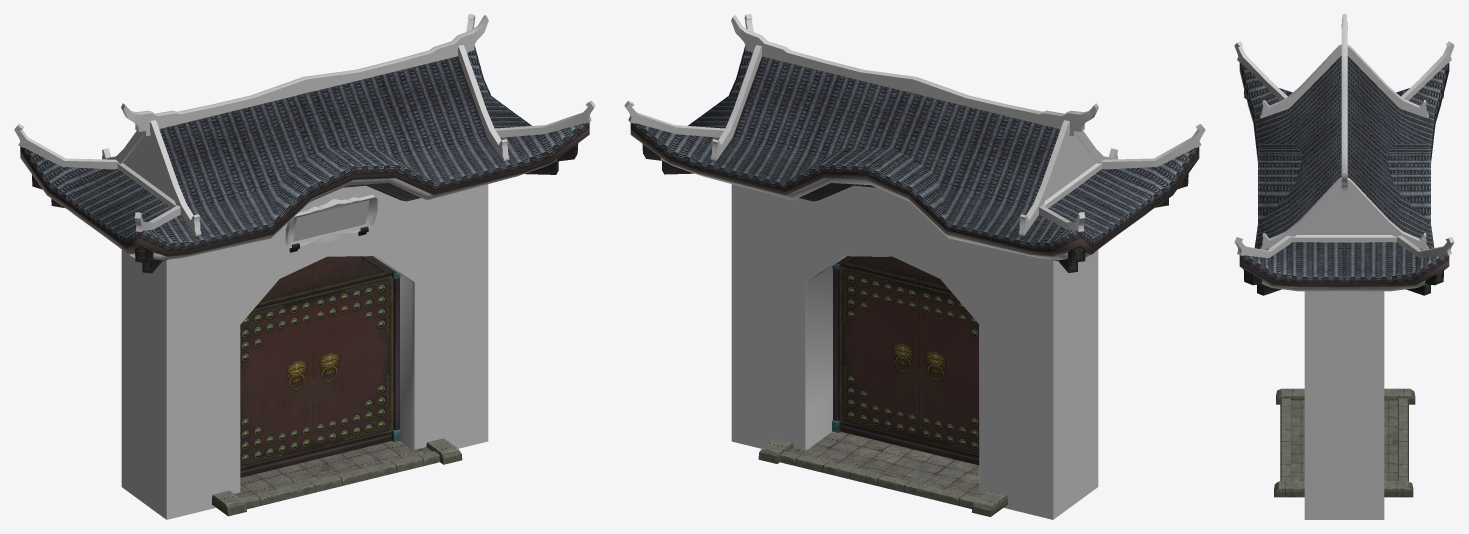
The model's file is JiaYeSi_WeiQiang_1.FBX.
3 renders of one model, left to right at view 1: azimuth 30°, elevation 25°; view 2: azimuth 150°, elevation 25°; view 3: azimuth 270°, elevation 25°, orthographic. The views are drawn at different scales.
Visible parts, largest first — view 1: JiaYeSi_WeiQiang_1e, JiaYeSi_WeiQiang_1b, JiaYeSi_WeiQiang_1h, JiaYeSi_WeiQiang_1a, JiaYeSi_WeiQiang_1c, JiaYeSi_WeiQiang_1g, JiaYeSi_WeiQiang_1f, JiaYeSi_WeiQiang_1d; view 2: JiaYeSi_WeiQiang_1e, JiaYeSi_WeiQiang_1b, JiaYeSi_WeiQiang_1h, JiaYeSi_WeiQiang_1a, JiaYeSi_WeiQiang_1f, JiaYeSi_WeiQiang_1g, JiaYeSi_WeiQiang_1c, JiaYeSi_WeiQiang_1d; view 3: JiaYeSi_WeiQiang_1b, JiaYeSi_WeiQiang_1e, JiaYeSi_WeiQiang_1a, JiaYeSi_WeiQiang_1g, JiaYeSi_WeiQiang_1f, JiaYeSi_WeiQiang_1d, JiaYeSi_WeiQiang_1c.
Boxes of the visible parts, box(x1,y1,x2,y2) form: JiaYeSi_WeiQiang_1e: box(121, 184, 488, 519); JiaYeSi_WeiQiang_1b: box(20, 46, 589, 256); JiaYeSi_WeiQiang_1h: box(240, 256, 400, 477); JiaYeSi_WeiQiang_1a: box(14, 14, 595, 235); JiaYeSi_WeiQiang_1c: box(71, 159, 556, 260); JiaYeSi_WeiQiang_1g: box(212, 438, 462, 516); JiaYeSi_WeiQiang_1f: box(234, 440, 431, 498); JiaYeSi_WeiQiang_1d: box(32, 143, 578, 273); JiaYeSi_WeiQiang_1e: box(731, 184, 1098, 519); JiaYeSi_WeiQiang_1b: box(630, 46, 1199, 256); JiaYeSi_WeiQiang_1h: box(832, 256, 979, 464); JiaYeSi_WeiQiang_1a: box(624, 14, 1205, 235); JiaYeSi_WeiQiang_1f: box(787, 431, 985, 498); JiaYeSi_WeiQiang_1g: box(758, 438, 1007, 516); JiaYeSi_WeiQiang_1c: box(661, 158, 1149, 260); JiaYeSi_WeiQiang_1d: box(642, 144, 1188, 272); JiaYeSi_WeiQiang_1b: box(1239, 56, 1449, 287); JiaYeSi_WeiQiang_1e: box(1304, 291, 1384, 519); JiaYeSi_WeiQiang_1a: box(1234, 14, 1454, 258); JiaYeSi_WeiQiang_1g: box(1274, 388, 1415, 497); JiaYeSi_WeiQiang_1f: box(1291, 400, 1397, 481); JiaYeSi_WeiQiang_1d: box(1243, 90, 1443, 295); JiaYeSi_WeiQiang_1c: box(1262, 280, 1425, 291).
Bounding box in the file's own units: 3248 × 2724 × 1517.
